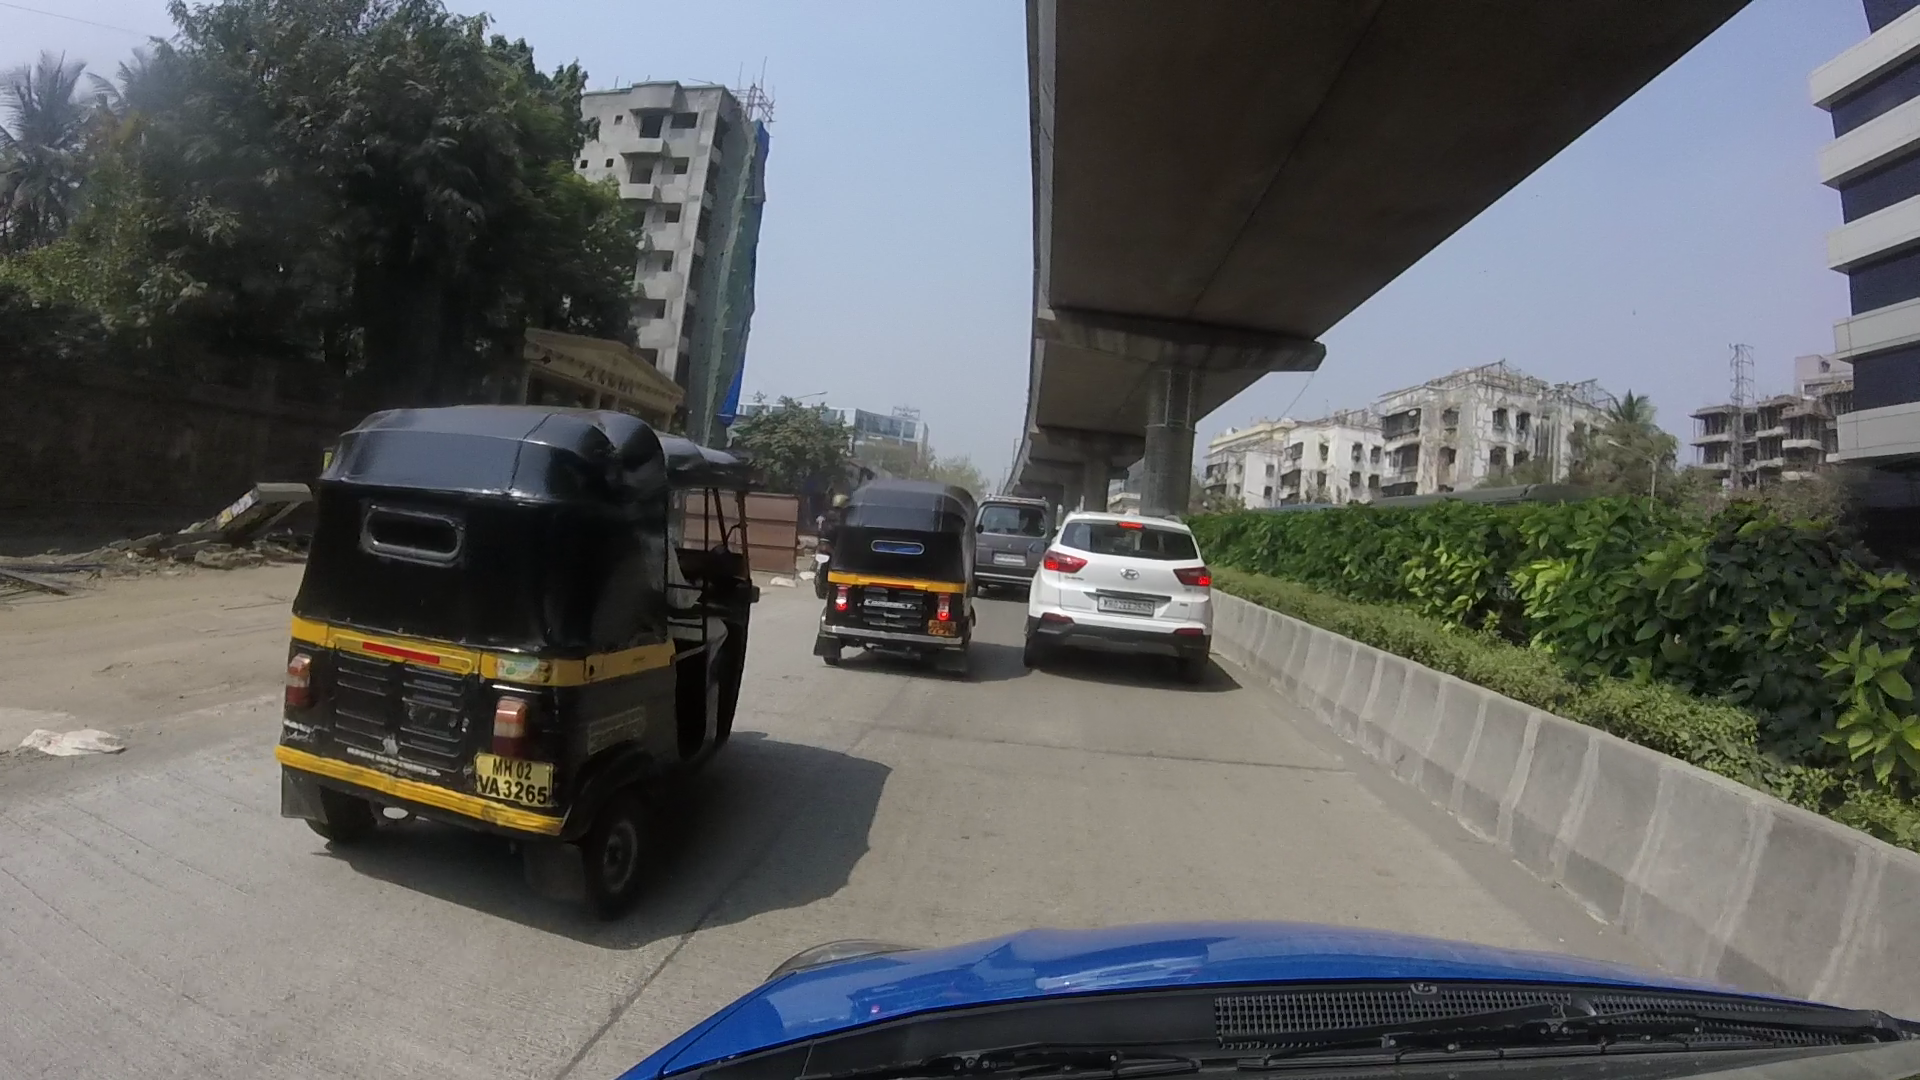car: (992, 484, 1233, 692)
rickshaw: (243, 351, 774, 872), (812, 454, 980, 704)
